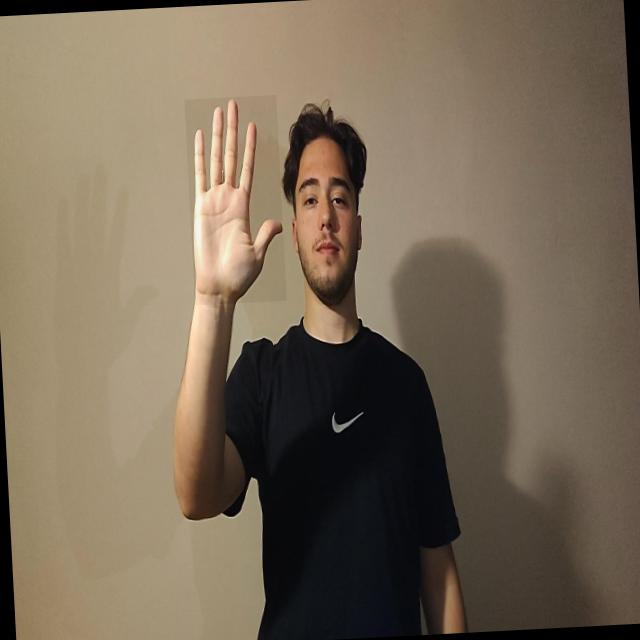hello: (184, 95, 287, 306)
